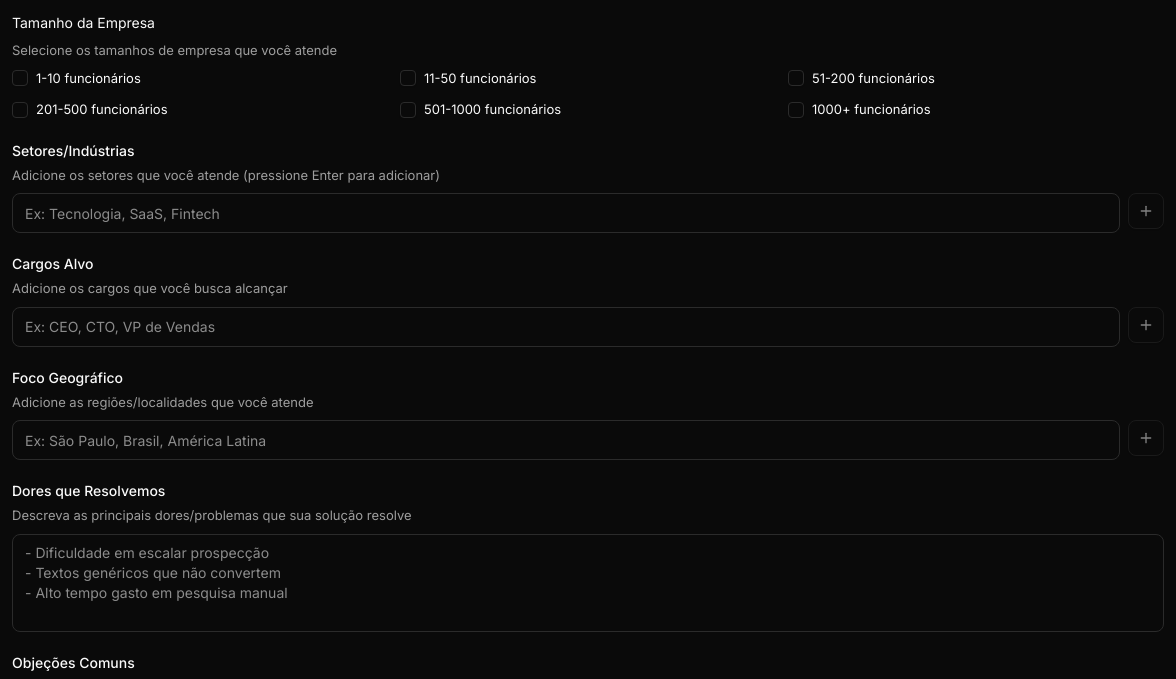
ICPDefinitionForm › Tag Input › should add geographic focus tag on Enter key
This screenshot has width=1176, height=679.
Step 1. Type "América Latina" into the field with placeholder "Ex: São Paulo, Brasil, América Latina" → (566, 440), box [12, 420, 1120, 460]
Then press Enter
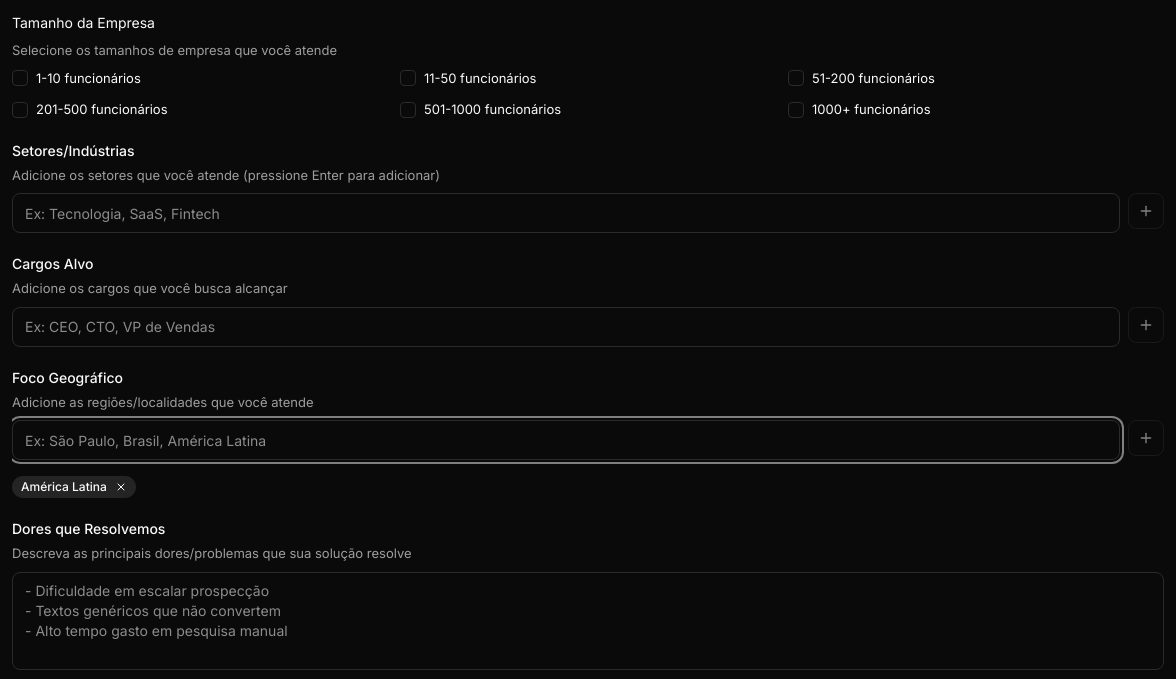
Check: the text "América Latina" is shown, box [12, 476, 136, 498]
